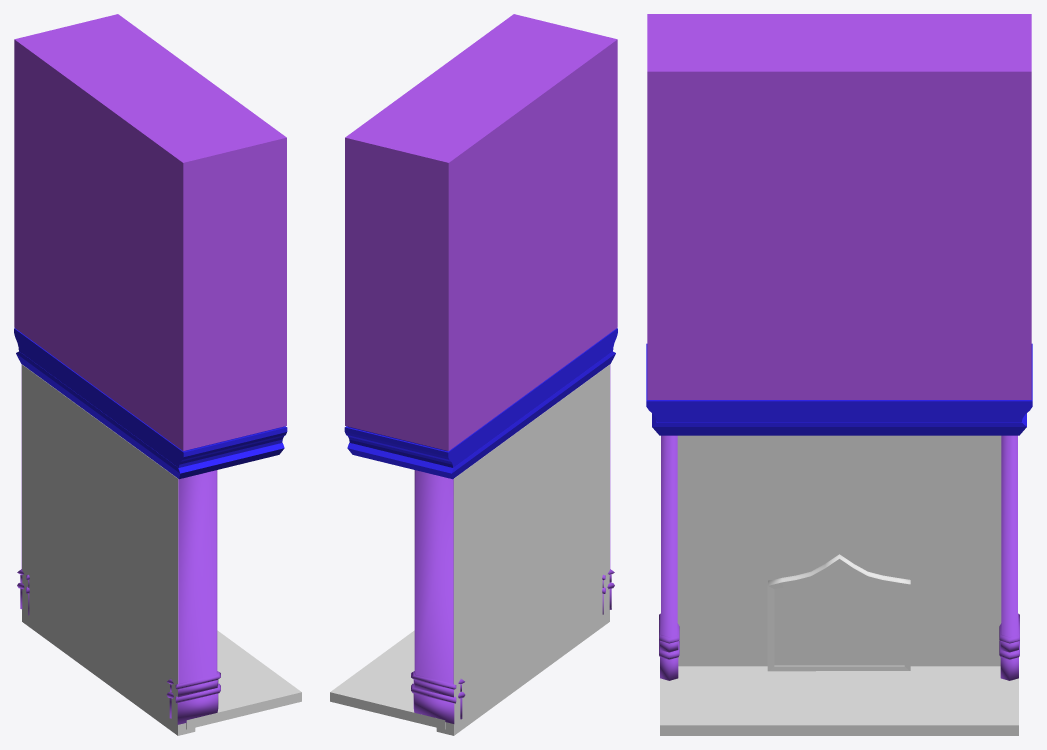
File: Fire Place.fbx
3 views of the same model, side by side, from view 1: azimuth 30°, elevation 25°; view 2: azimuth 150°, elevation 25°; view 3: azimuth 270°, elevation 25° (orthographic). The views are drawn at different scales.
Parts seen in each view (by area): view 1: Cube.006, Cube.004, Cube.007, Cube.005, Cube.001; view 2: Cube.006, Cube.004, Cube.003, Cube.005, Cube.001; view 3: Cube.006, Cube.004, Cube.001, Cube, Cube.005, Cube.003, Cube.007.
Boxes of the visible parts, box(x1,y1,x2,y2) form: Cube.006: box(14, 14, 286, 450); Cube.004: box(22, 364, 195, 735); Cube.007: box(166, 470, 220, 724); Cube.005: box(14, 328, 287, 479); Cube.001: box(186, 630, 301, 729); Cube.006: box(345, 14, 617, 450); Cube.004: box(436, 364, 609, 735); Cube.003: box(411, 470, 465, 723); Cube.005: box(344, 328, 617, 479); Cube.001: box(330, 630, 445, 729); Cube.006: box(647, 14, 1031, 399); Cube.004: box(677, 435, 1001, 666); Cube.001: box(660, 666, 1018, 735); Cube: box(767, 554, 910, 671); Cube.005: box(646, 343, 1032, 435); Cube.003: box(999, 435, 1019, 680); Cube.007: box(659, 435, 679, 680).
Bounding box in the file's own units: 233 × 1012 × 539.
